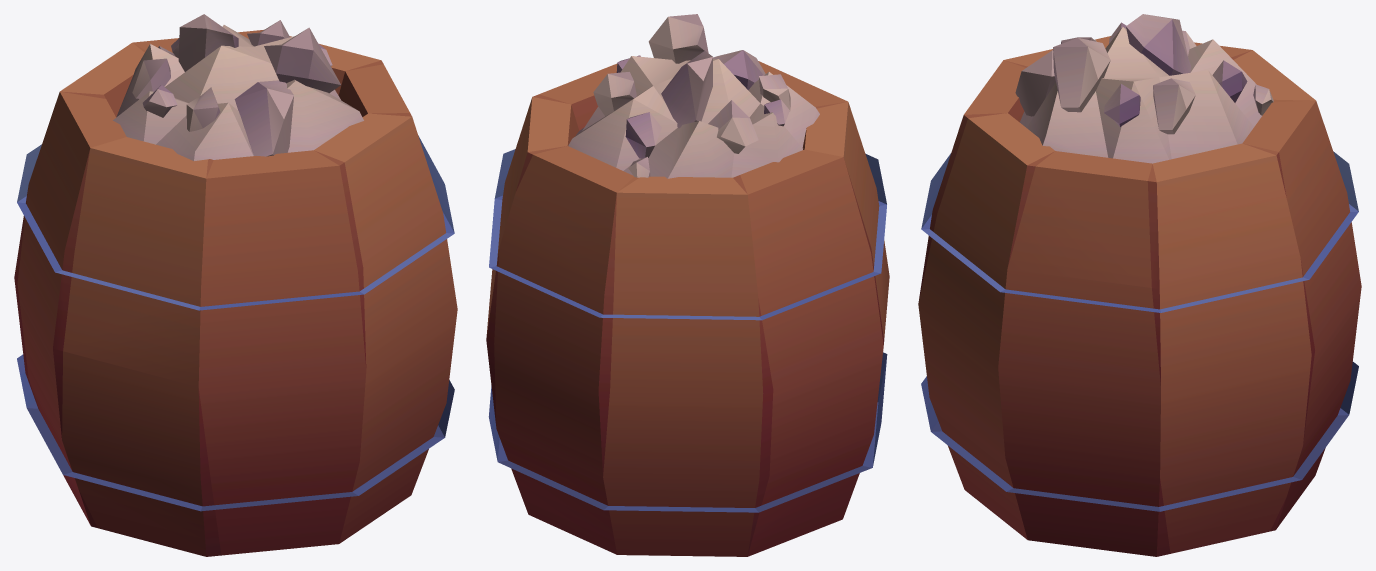
The model's file is mineral_barrel.glb.
3 views of the same model, side by side, from view 1: azimuth 30°, elevation 25°; view 2: azimuth 150°, elevation 25°; view 3: azimuth 270°, elevation 25° (orthographic). The views are drawn at different scales.
Visible parts, largest first — view 1: mineral_barrel; view 2: mineral_barrel; view 3: mineral_barrel.
Part boxes in pixels (<box>): mineral_barrel: <box>14,14,457,556</box>; mineral_barrel: <box>486,14,889,556</box>; mineral_barrel: <box>918,14,1361,556</box>.
Bounding box in the file's own units: 0.7321 × 0.8359 × 0.7321.
Materials: 1 (1 with a texture image).
